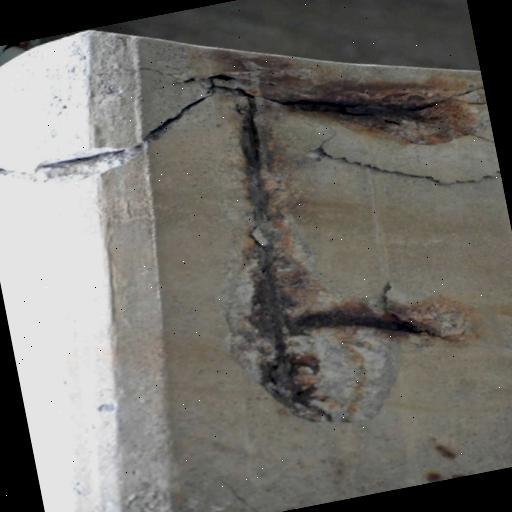spalling: (217, 71, 477, 423), (0, 88, 209, 192), (305, 135, 502, 194)
